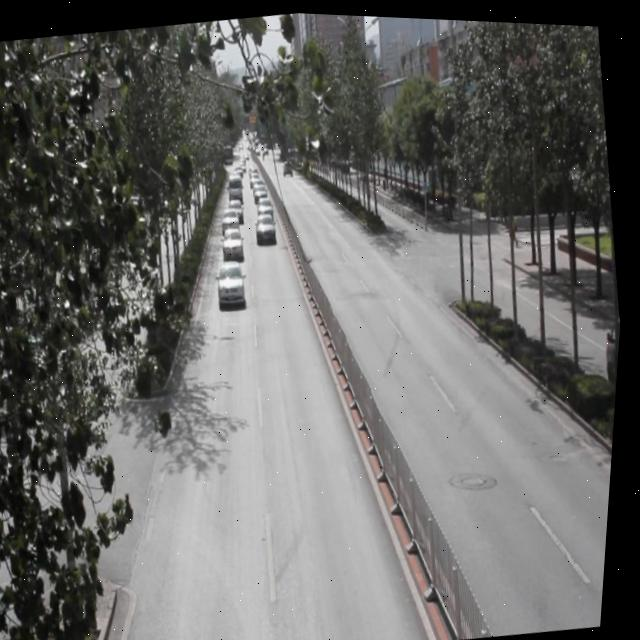car: (217, 257, 253, 308), (222, 222, 249, 261), (256, 209, 282, 245), (222, 205, 245, 234)
